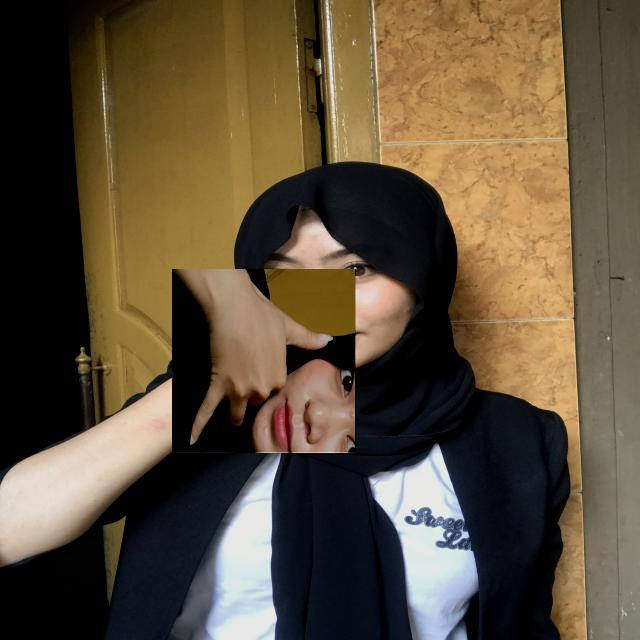telpon: (172, 269, 356, 452)
